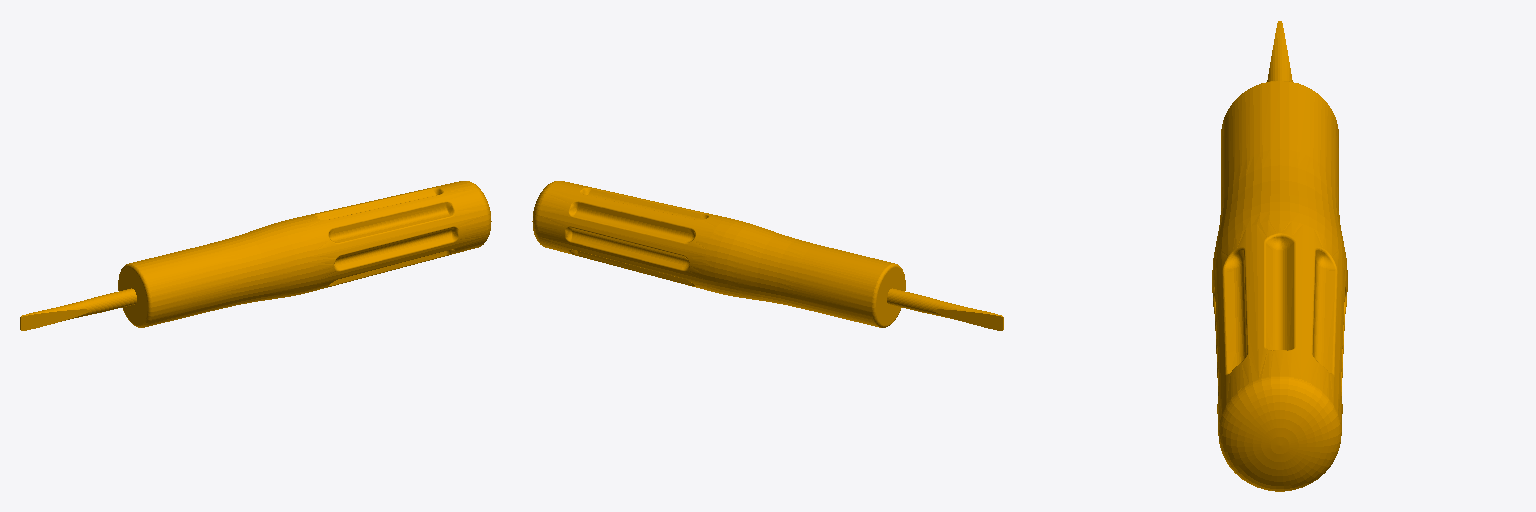
URDF robot description (screwdriver_3_L0.69_T0.71):
<?xml version="1.0" encoding="utf-8"?>
<robot name="screwdriver_3_L0.69_T0.71">
  <link name="screwdriver_3_L0.69_T0.71Link">
    <contact>
      <lateral_friction value="1"/>
    </contact>
    <inertial>
      <origin rpy="0 0 0" xyz="0 0 0"/>
      <mass value="0.0"/>
      <inertia ixx="0" ixy="0" ixz="0" iyy="0" iyz="0" izz="0"/>
    </inertial>
    <visual>
      <origin rpy="0 0 0" xyz="0 0 0"/>
      <geometry>
        <mesh filename="generated_stl/screwdriver/screwdriver_3/screwdriver_3_L0.69_T0.71/screwdriver_3_L0.69_T0.71.stl" scale="0.01 0.01 0.01"/>
      </geometry>
    </visual>
    <collision>
      <origin rpy="0 0 0" xyz="0 0 0"/>
      <geometry>
        <mesh filename="generated_stl/screwdriver/screwdriver_3/screwdriver_3_L0.69_T0.71/screwdriver_3_L0.69_T0.71.stl" scale="0.01 0.01 0.01"/>
      </geometry>
    </collision>
  </link>
</robot>

--- What the picture shows (computed from the rendered views, not written in the file) ---
Views: 3 orthographic renders of the robot side by side, from view 1: azimuth 30°, elevation 25°; view 2: azimuth 150°, elevation 25°; view 3: azimuth 270°, elevation 25°.
Model screwdriver_3_L0.69_T0.71 with 1 links and 0 joints (none), rooted at screwdriver_3_L0.69_T0.71Link, posed every joint at zero.
Links seen in each view (by area): view 1: screwdriver_3_L0.69_T0.71Link; view 2: screwdriver_3_L0.69_T0.71Link; view 3: screwdriver_3_L0.69_T0.71Link.
Boxes of the visible links, left/top/right/bottom form: screwdriver_3_L0.69_T0.71Link: left=20, top=181, right=491, bottom=330; screwdriver_3_L0.69_T0.71Link: left=532, top=181, right=1003, bottom=330; screwdriver_3_L0.69_T0.71Link: left=1212, top=21, right=1347, bottom=491.
Bounding box of the posed robot: 0.0553 × 0.0077 × 0.0079 m (x, y, z).
1 mesh visuals loaded from 1 distinct referenced files (1 binary STL).